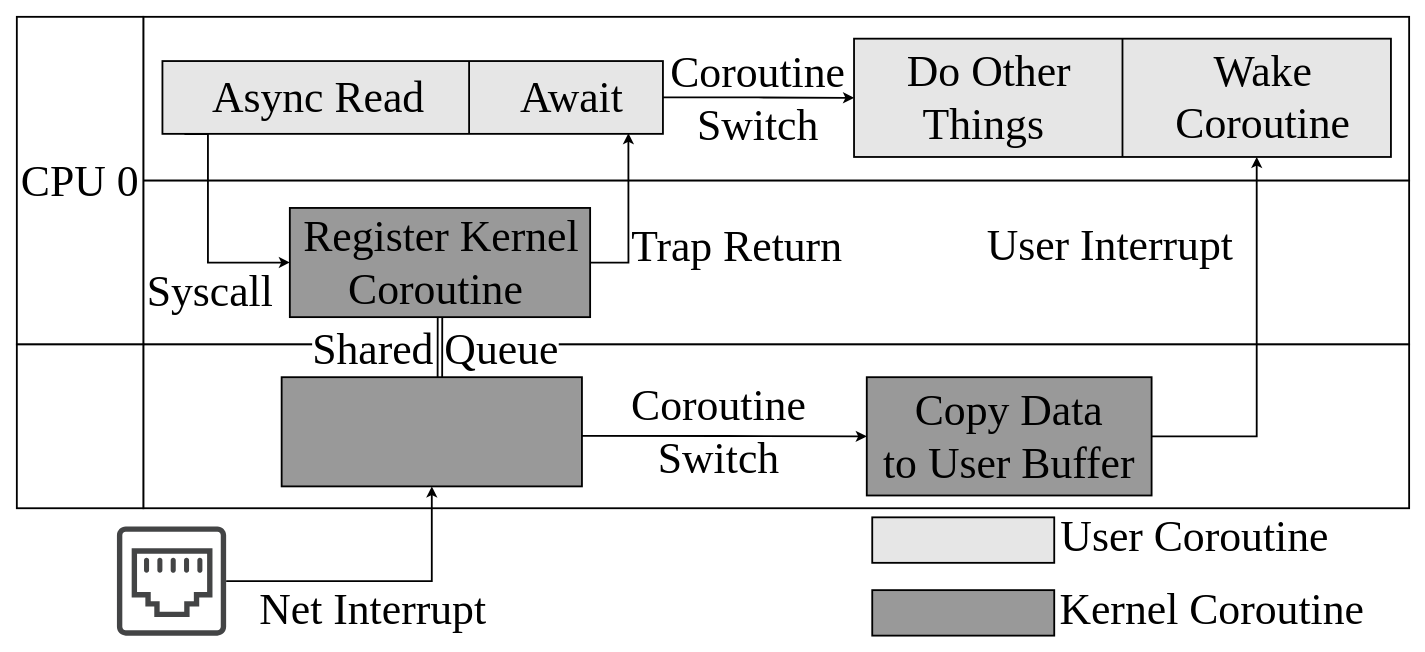
This 1425x652 diagram has some shape labels left out. Each missing label, with the centre of its shape:
"CPU 1" belongs at pixel 79 426.
"Wake Kernel Coroutine" belongs at pixel 431 431.
